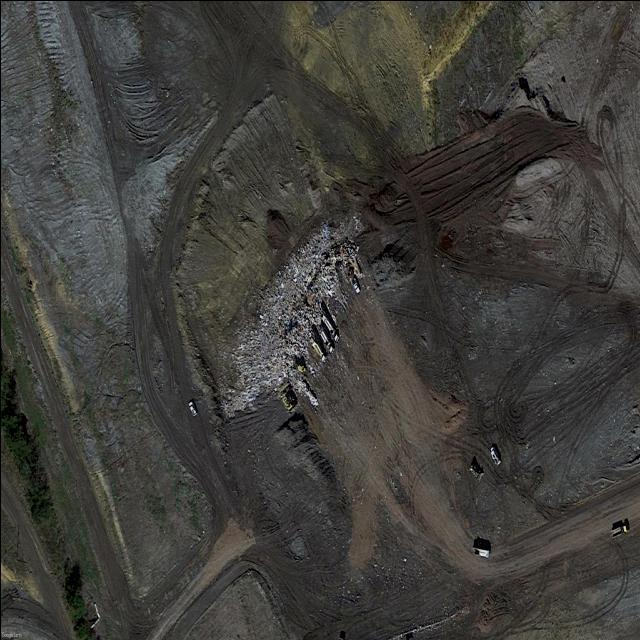dump_site: (201, 202, 380, 444)
